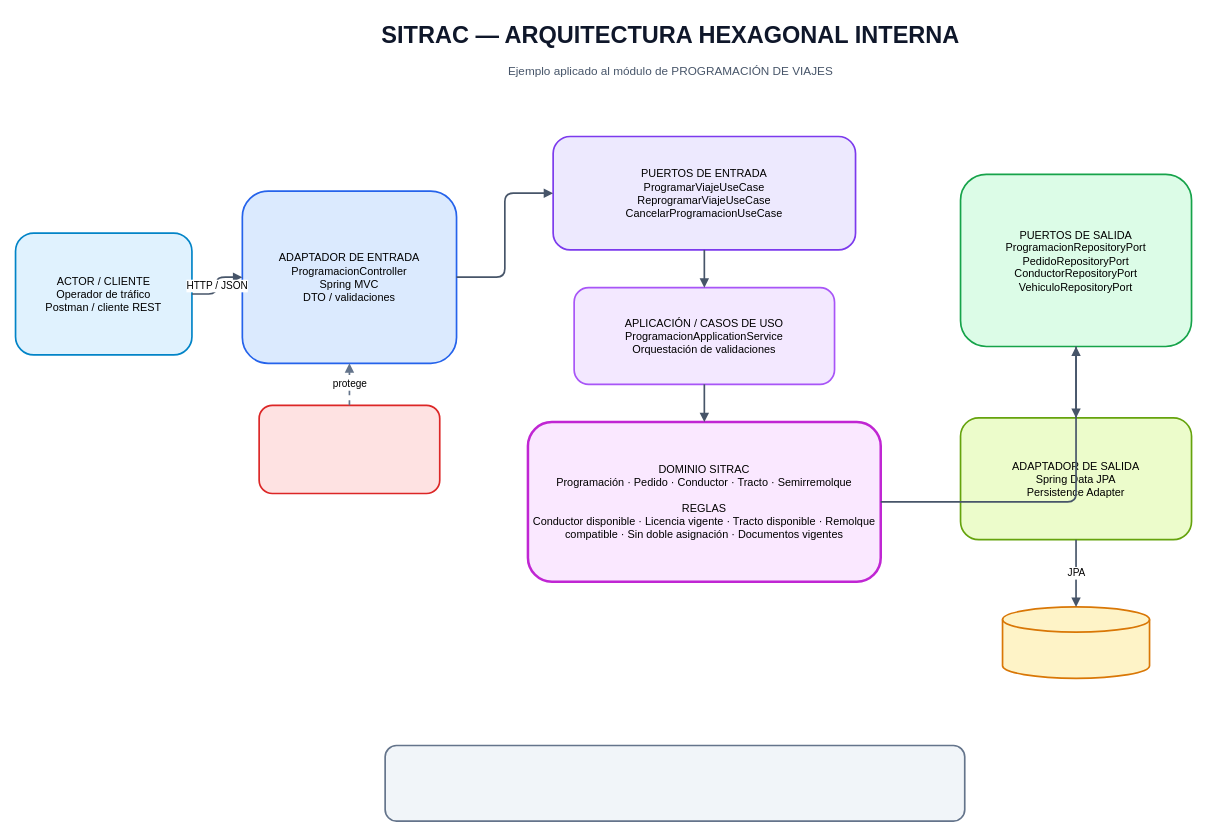
Image size: 1206x836. Some labels were removed from this diagram. The shapes that lost their labels are listed below. From the top down, each one's centre as x and y in pixels, then its label:
At point (349, 449): "SEGURIDAD Spring Security BCrypt en autenticación".
At point (1075, 642): "MySQL Base de datos SITRAC".
At point (674, 783): "TECNOLOGÍAS DE SOPORTE Java · Spring Boot · Lombok · IntelliJ IDEA · Postman".
